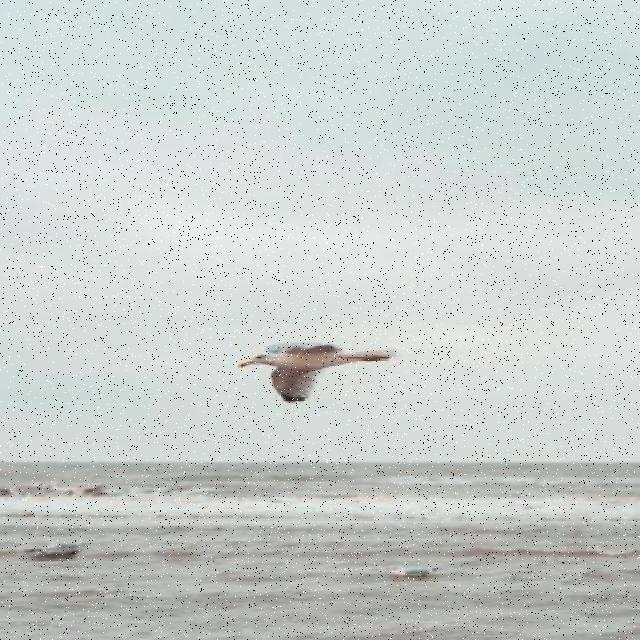bird: (238, 342, 402, 404)
